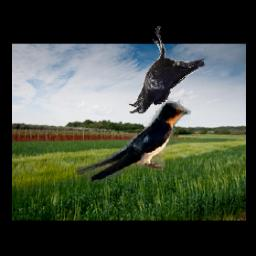Crow: (129, 26, 206, 113)
Swallow: (74, 99, 190, 183)
